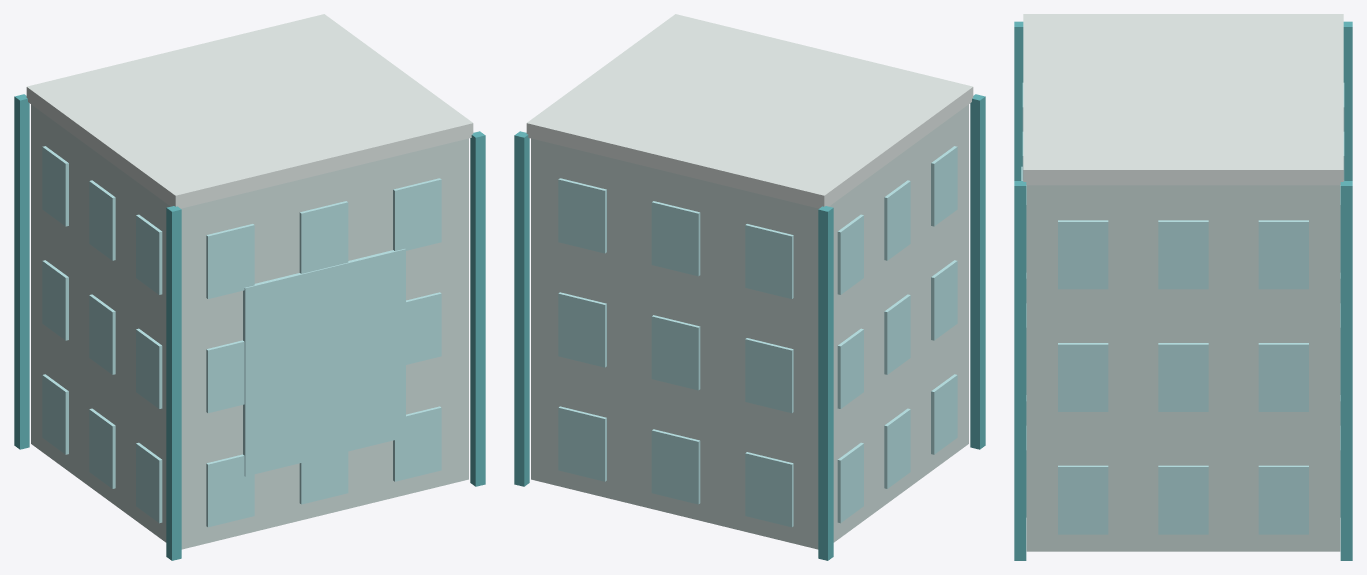
The model's file is commercial_a.glb.
3 renders of one model, left to right at view 1: azimuth 30°, elevation 25°; view 2: azimuth 150°, elevation 25°; view 3: azimuth 270°, elevation 25°, orthographic. The views are drawn at different scales.
Bounding box in the file's own units: 8.05 × 8.84 × 7.01.
